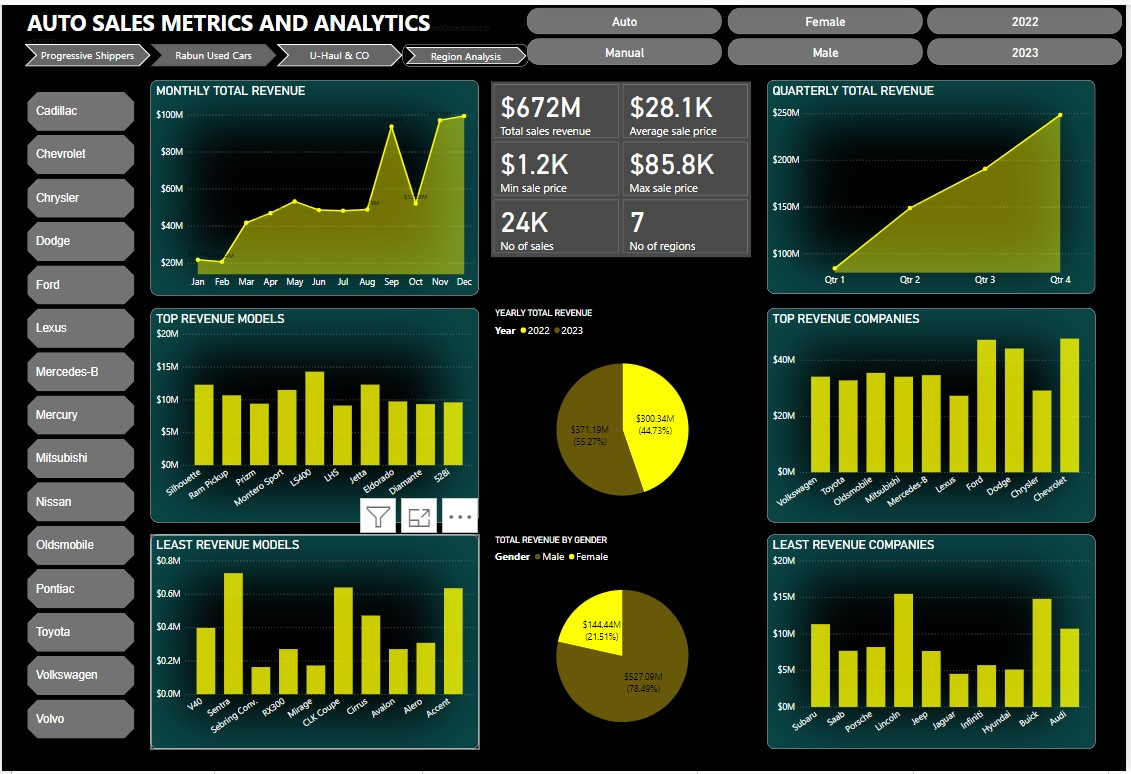

The dashboard page shown, as its layout file describes it:
{"tool":"powerbi","page":{"name":"General overview","canvas":[2200,1500],"ordinal":0},"visuals":[{"type":"stackedAreaChart","title":"MONTHLY TOTAL REVENUE","fields":{"Y":["Sum(CAR_SALES.Price)"],"Category":["CAR_SALES.Month"]},"box":[292,146,642.5,421.8],"z":0},{"type":"areaChart","title":"QUARTERLY TOTAL REVENUE","fields":{"Category":["CAR_SALES.Date.Variation.Date Hierarchy.Quarter"],"Y":["Sum(CAR_SALES.Price)"]},"box":[1499.1,146,642.5,418.6],"z":1000},{"type":"clusteredColumnChart","title":"TOP REVENUE COMPANIES","fields":{"Category":["CAR_SALES.Company"],"Y":["Sum(CAR_SALES.Price)"]},"box":[1498.1,593.4,643.3,420],"z":2000},{"type":"clusteredColumnChart","title":"LEAST REVENUE COMPANIES","fields":{"Category":["CAR_SALES.Company"],"Y":["Sum(CAR_SALES.Price)"]},"box":[1498.1,1036.9,643.3,420],"z":3000},{"type":"clusteredColumnChart","title":"TOP REVENUE MODELS","fields":{"Category":["CAR_SALES.Model"],"Y":["Sum(CAR_SALES.Price)"]},"box":[290.8,593.4,643.3,420],"z":4000},{"type":"clusteredColumnChart","title":"LEAST REVENUE MODELS","fields":{"Category":["CAR_SALES.Model"],"Y":["Sum(CAR_SALES.Price)"]},"box":[290.8,1036.9,643.3,420],"z":5000},{"type":"textbox","box":[44.1,0,957.6,96.9],"z":6000},{"type":"advancedSlicerVisual","fields":{"Values":["CAR_SALES.Company"]},"box":[45.4,165.5,220.6,1291.4],"z":7000},{"type":"actionButton","box":[43.9,76.8,246.7,43.9],"z":8000},{"type":"actionButton","box":[290.6,76.8,246.7,43.9],"z":9000},{"type":"actionButton","box":[537.3,76.8,246.7,43.9],"z":10000},{"type":"actionButton","box":[784.1,76.8,246.7,43.9],"z":11000},{"type":"pieChart","title":"TOTAL REVENUE BY GENDER","fields":{"Category":["CAR_SALES.Gender"],"Y":["Sum(CAR_SALES.Price)"]},"box":[960.5,1036.9,508.2,420],"z":12000},{"type":"pieChart","title":"YEARLY TOTAL REVENUE","fields":{"Y":["Sum(CAR_SALES.Price)"],"Category":["CAR_SALES.Date.Variation.Date Hierarchy.Year"]},"box":[960.5,593.4,508.2,420],"z":13000},{"type":"advancedSlicerVisual","fields":{"Values":["CAR_SALES.Date.Variation.Date Hierarchy.Year"]},"box":[1807.4,0,392.6,123.3],"z":14000},{"type":"advancedSlicerVisual","fields":{"Values":["CAR_SALES.Gender"]},"box":[1414.7,0,392.6,123.3],"z":15000},{"type":"advancedSlicerVisual","fields":{"Values":["CAR_SALES.Transmission"]},"box":[1022.1,0,392.6,123.3],"z":16000},{"type":"cardVisual","fields":{"Data":["Sum(CAR_SALES.Price)","Avg(CAR_SALES.Price)","Min(CAR_SALES.Price)","Max(CAR_SALES.Price)","CountNonNull(CAR_SALES.Price)","Count(CAR_SALES.Dealer_Region)"]},"box":[957.2,149.3,509.4,344],"z":17000}]}

Visuals, with their boxes in screenshot pixels (x1, y1, x2, y2), scaled from the page's 2200x1500 canvas onto the 1131x774 screenshot:
"MONTHLY TOTAL REVENUE" stackedAreaChart: <region>150, 75, 480, 293</region>
"QUARTERLY TOTAL REVENUE" areaChart: <region>771, 75, 1101, 291</region>
"TOP REVENUE COMPANIES" clusteredColumnChart: <region>770, 306, 1101, 523</region>
"LEAST REVENUE COMPANIES" clusteredColumnChart: <region>770, 535, 1101, 752</region>
"TOP REVENUE MODELS" clusteredColumnChart: <region>149, 306, 480, 523</region>
"LEAST REVENUE MODELS" clusteredColumnChart: <region>149, 535, 480, 752</region>
textbox: <region>23, 0, 515, 50</region>
advancedSlicerVisual - CAR_SALES.Company: <region>23, 85, 137, 752</region>
actionButton: <region>23, 40, 149, 62</region>
actionButton: <region>149, 40, 276, 62</region>
actionButton: <region>276, 40, 403, 62</region>
actionButton: <region>403, 40, 530, 62</region>
"TOTAL REVENUE BY GENDER" pieChart: <region>494, 535, 755, 752</region>
"YEARLY TOTAL REVENUE" pieChart: <region>494, 306, 755, 523</region>
advancedSlicerVisual - CAR_SALES.Date.Variation.Date Hierarchy.Year: <region>929, 0, 1130, 64</region>
advancedSlicerVisual - CAR_SALES.Gender: <region>727, 0, 929, 64</region>
advancedSlicerVisual - CAR_SALES.Transmission: <region>525, 0, 727, 64</region>
cardVisual - Sum(CAR_SALES.Price) x Avg(CAR_SALES.Price): <region>492, 77, 754, 255</region>
